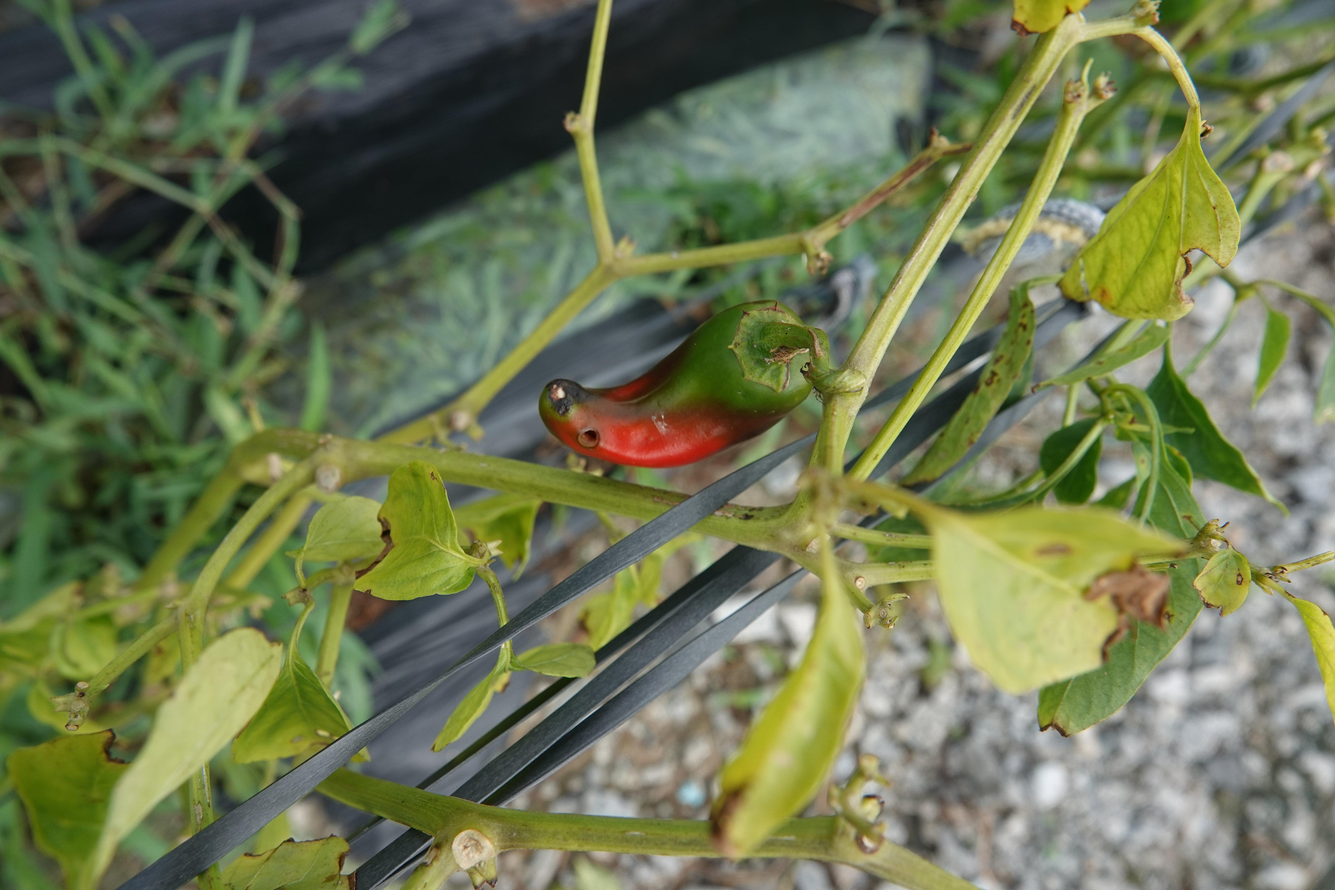Busuk Buah Antraknosa: (536, 297, 826, 470)
